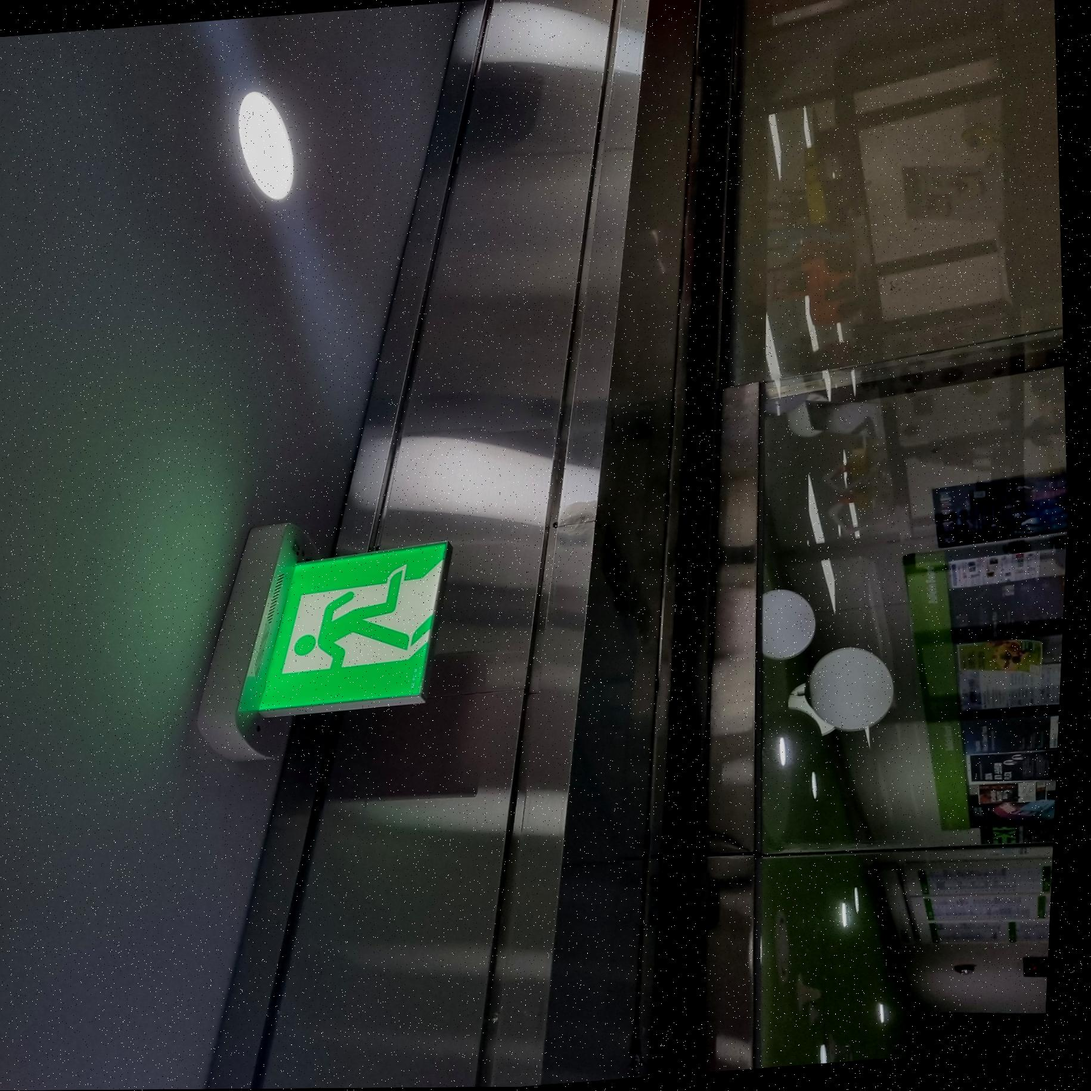emergency_exit: (237, 535, 453, 726)
